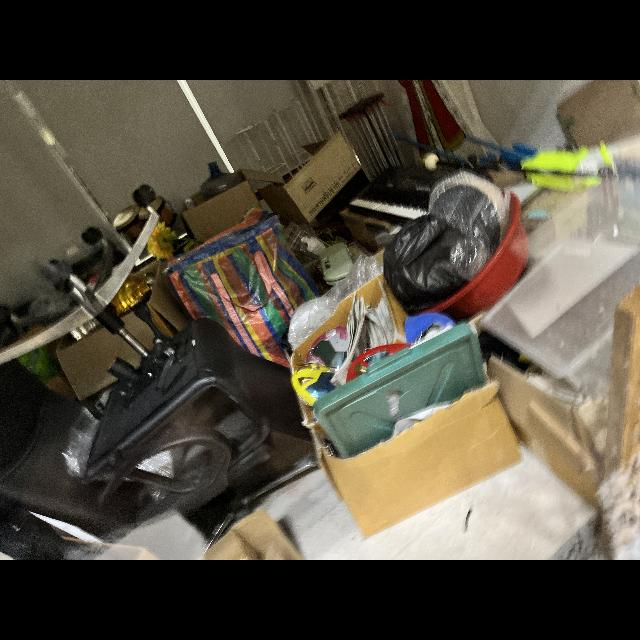cardboard_box: (307, 382, 519, 540), (260, 128, 360, 224), (186, 153, 282, 245)
